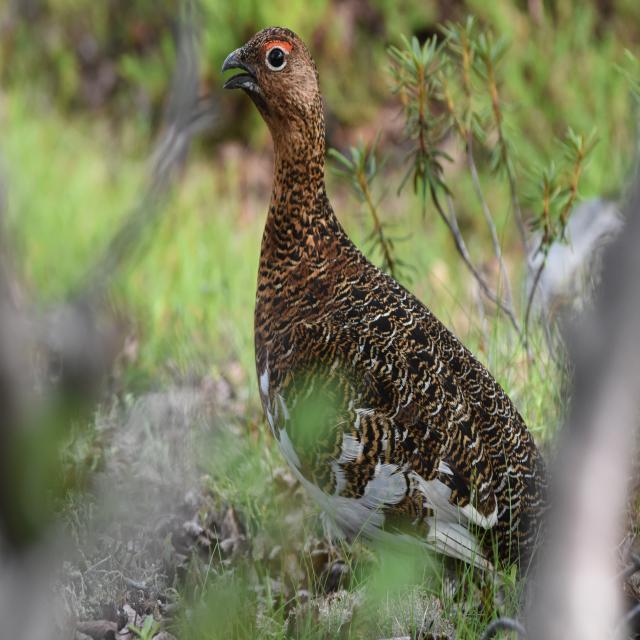bird: (220, 23, 538, 577)
